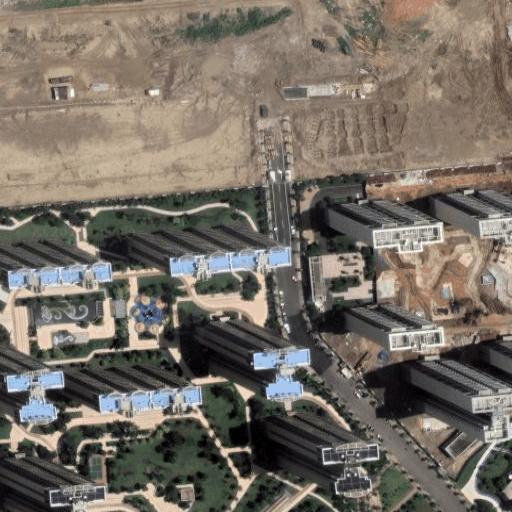building: (446, 390, 512, 459), (265, 414, 322, 469), (196, 319, 252, 373), (407, 358, 460, 411), (0, 458, 46, 512), (325, 196, 396, 228), (431, 187, 502, 219), (188, 225, 249, 255), (128, 231, 189, 260), (346, 301, 402, 328), (111, 360, 163, 387), (18, 241, 69, 268), (486, 340, 512, 392), (61, 365, 112, 391), (83, 452, 104, 492)
